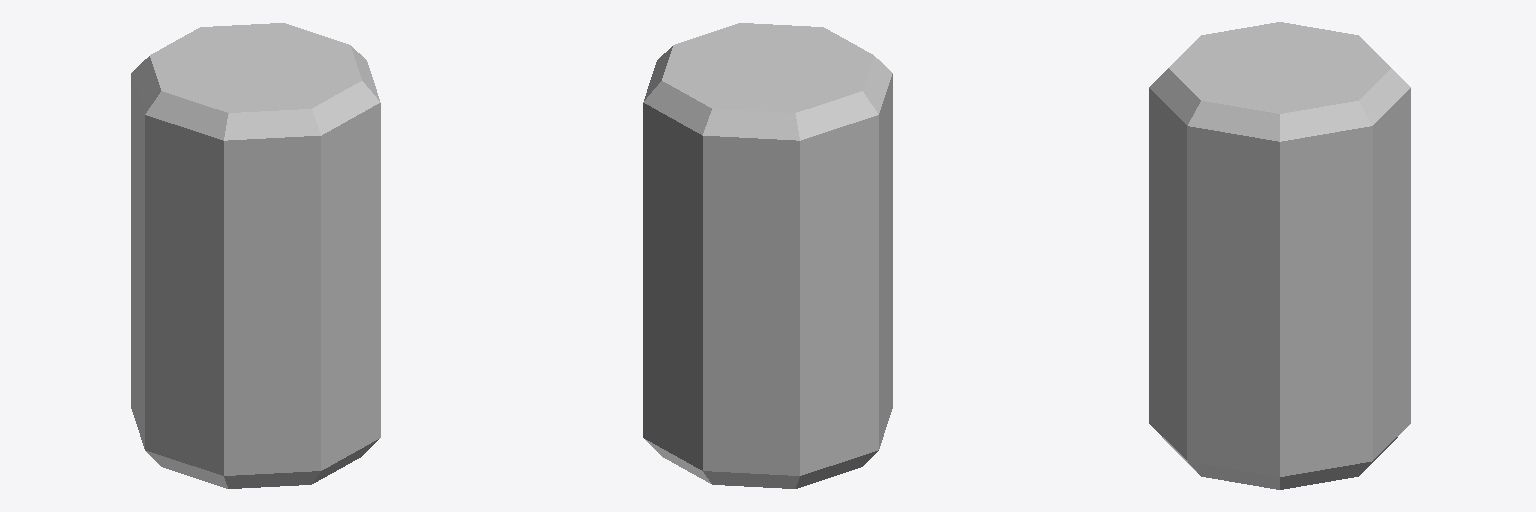
Rendered from Canette_avec_texture_V6.obj.
3 renders of one model, left to right at view 1: azimuth 30°, elevation 25°; view 2: azimuth 150°, elevation 25°; view 3: azimuth 270°, elevation 25°, orthographic.
Visible parts, largest first — view 1: Cylindre.001; view 2: Cylindre.001; view 3: Cylindre.001.
Boxes of the visible parts, <box> form: Cylindre.001: <box>131,23,380,488</box>; Cylindre.001: <box>643,23,892,488</box>; Cylindre.001: <box>1149,22,1410,489</box>.
Size of the model in its own units: 0.5129 by 0.8303 by 0.5239.